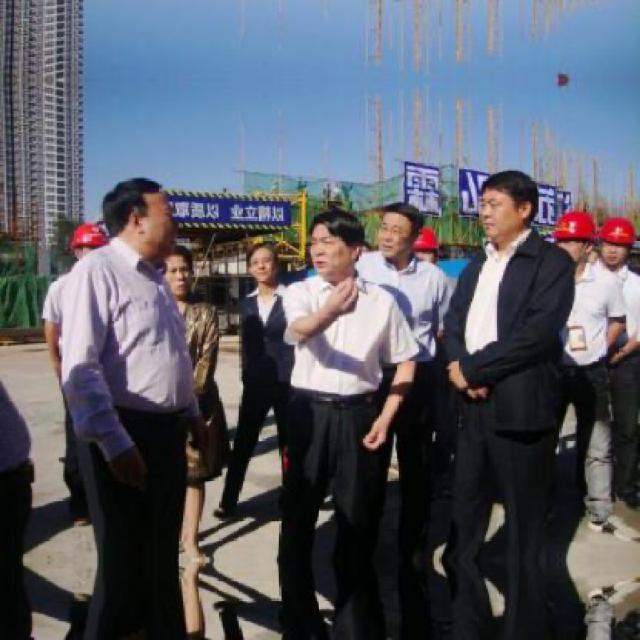con casco: (552, 210, 595, 253), (59, 226, 114, 251), (599, 214, 626, 237)
sin casco: (473, 164, 546, 233), (306, 208, 371, 242), (368, 205, 418, 235), (247, 238, 284, 260)
